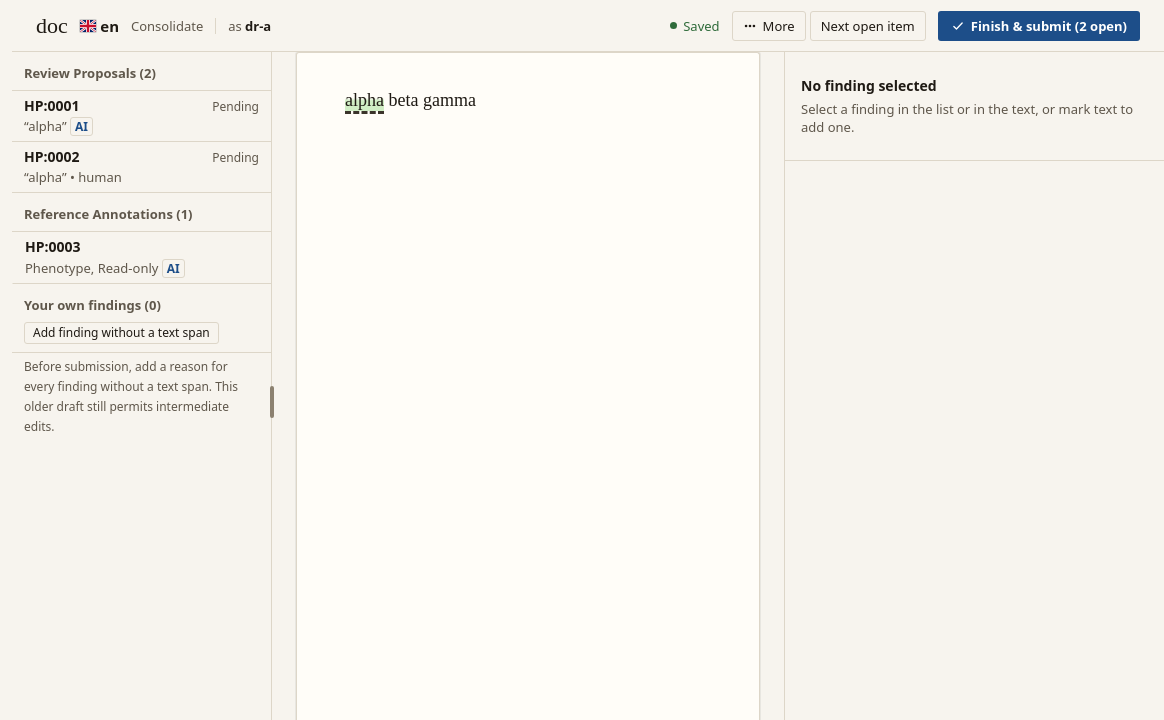
AI badge in the sidebar › marks tool-generated reference annotations in the list and in their details
Expected: the text "AI" below "Reference Annotations (" is shown, x1=167 y1=260 x2=180 y2=277
Click the button "HP:0003 Phenotype, Read-only AI" at (142, 258), box x1=12 y1=232 x2=271 y2=284
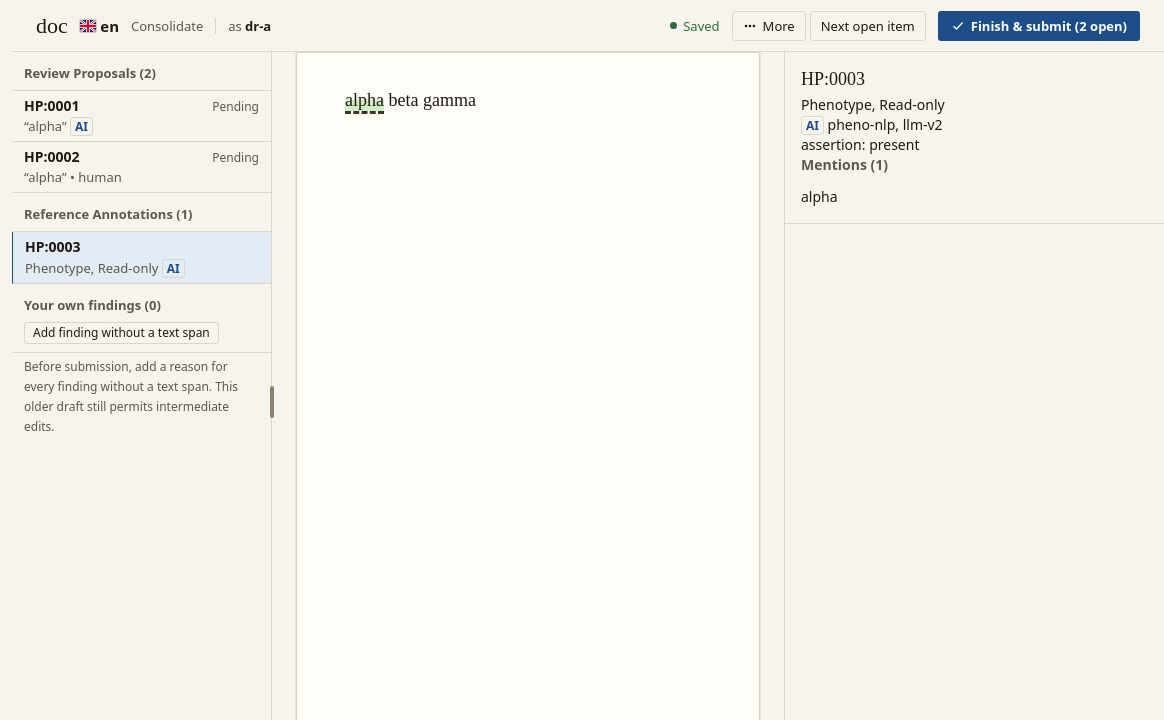
Expected: the text "AI" next to "pheno-nlp" is shown, x1=806 y1=117 x2=819 y2=134
Expected: the element named "Reference details" shows "pheno-nlp, llm-v2", x1=785 y1=52 x2=1163 y2=224
